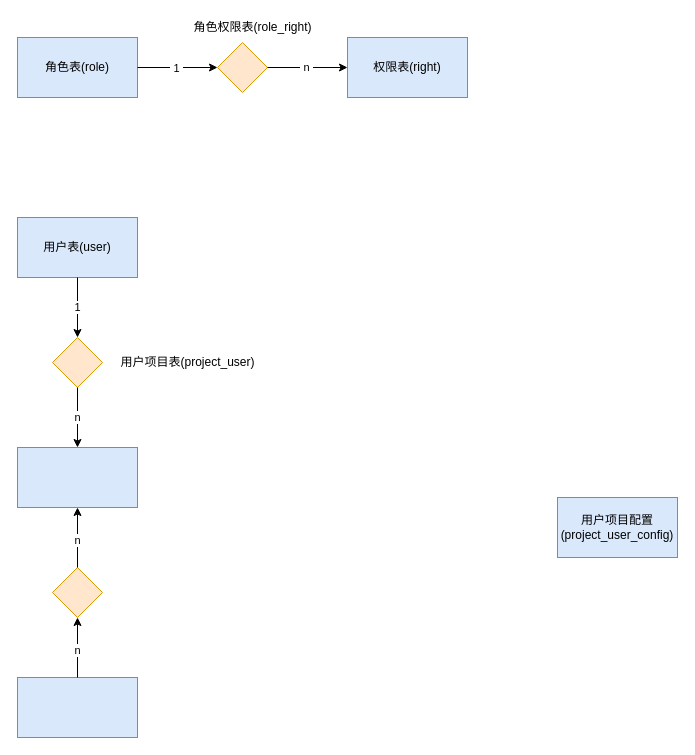
Image size: 695x755. Some labels were removed from this diagram. Here are the shapes that lost their labels. From the top down, the centre of each, then its label:
At pixel 77 477: "项目表(project)".
At pixel 77 707: "景区/区划表(scenic)".
